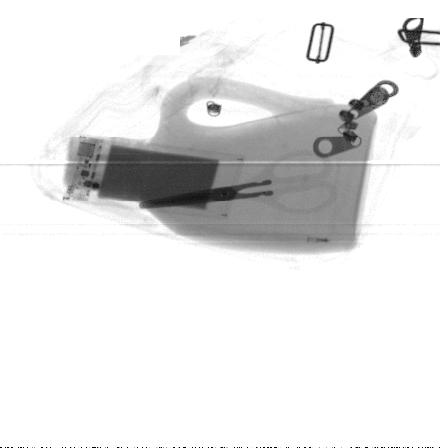Powerbank: (66, 132, 247, 225)
Scissors: (136, 147, 340, 216)
